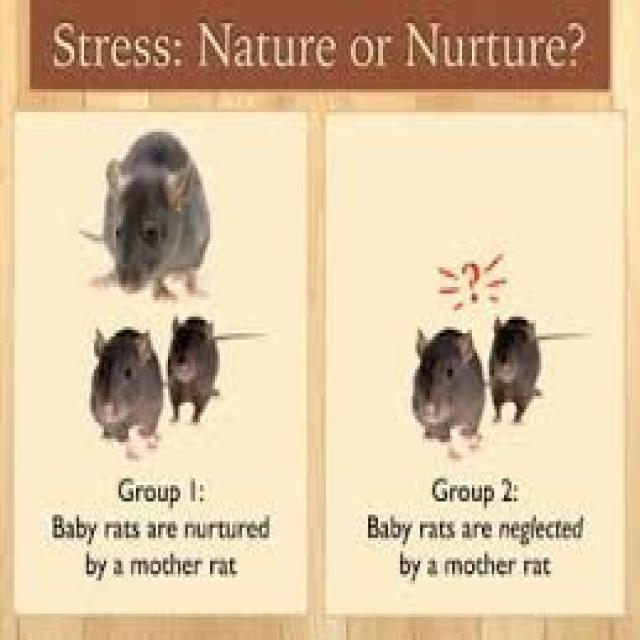Rat: (384, 308, 596, 463), (46, 318, 262, 449), (69, 119, 216, 282)
